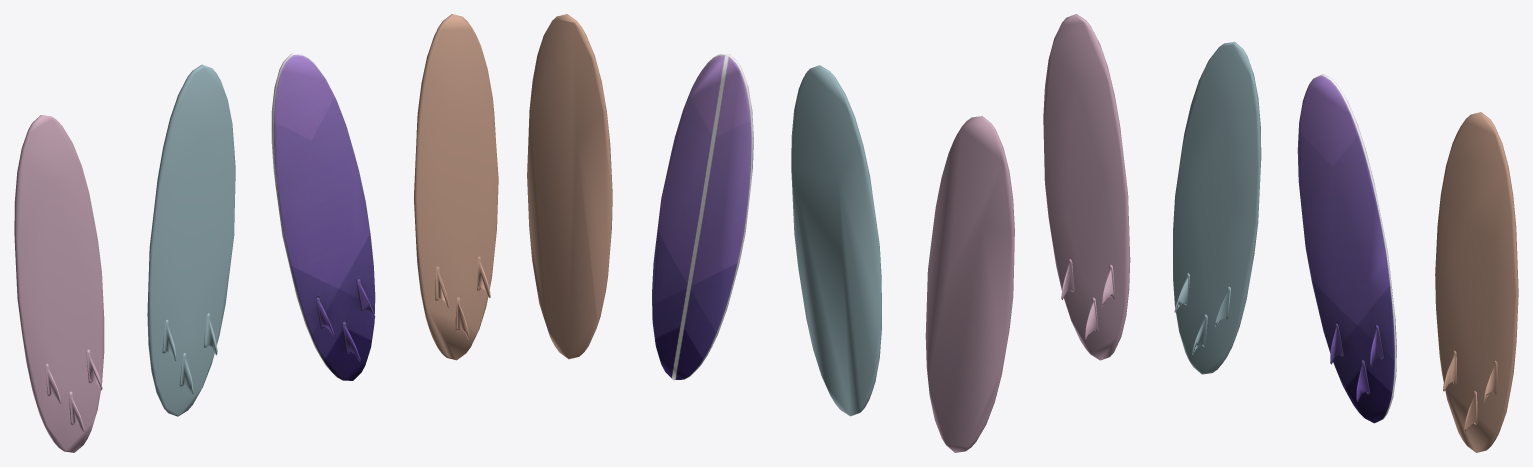
Rendered from surfboards.lod0.glb.
The picture shows the model from 3 angles, left to right: view 1: azimuth 30°, elevation 25°; view 2: azimuth 150°, elevation 25°; view 3: azimuth 330°, elevation 25°; orthographic projection. The views are drawn at different scales.
Visible parts, largest first — view 1: Surfboard_03_Surfboard_03_0, Surfboard_02_Surfboard_02_0; view 2: Surfboard_03_Surfboard_03_0, Surfboard_02_Surfboard_02_0; view 3: Surfboard_03_Surfboard_03_0, Surfboard_02_Surfboard_02_0.
Part boxes in pixels (<box>): Surfboard_03_Surfboard_03_0: <box>14,14,498,452</box>; Surfboard_02_Surfboard_02_0: <box>271,53,375,380</box>; Surfboard_03_Surfboard_03_0: <box>527,14,1014,452</box>; Surfboard_02_Surfboard_02_0: <box>652,54,753,380</box>; Surfboard_03_Surfboard_03_0: <box>1043,14,1518,452</box>; Surfboard_02_Surfboard_02_0: <box>1297,74,1396,423</box>.
Bounding box in the file's own units: 2.92 × 2.05 × 0.1873.
Materials: 2 (1 with a texture image).
